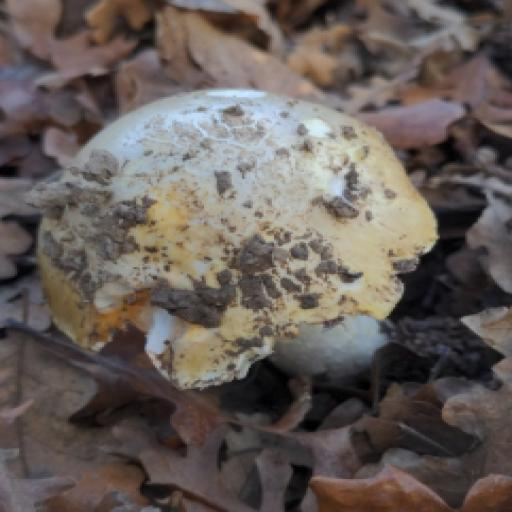mushroom: (0, 18, 463, 437)
